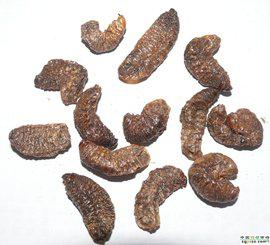grub: (61, 171, 116, 245)
